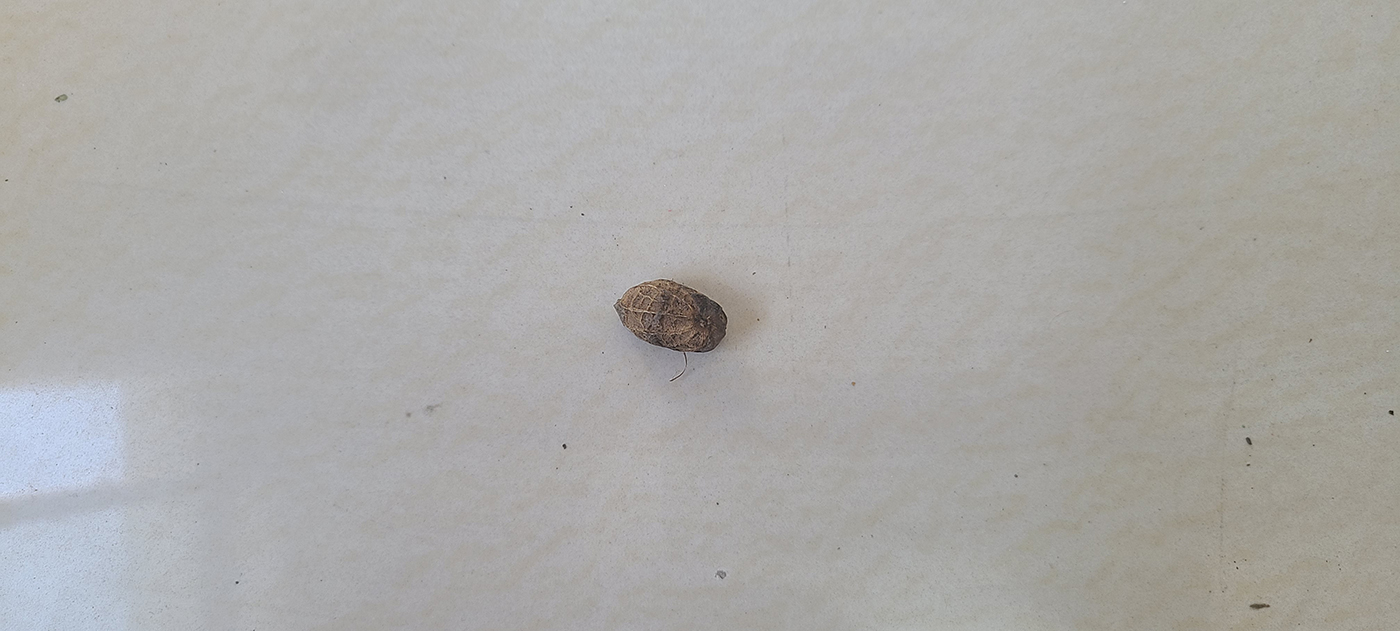l: (614, 278, 726, 353)
